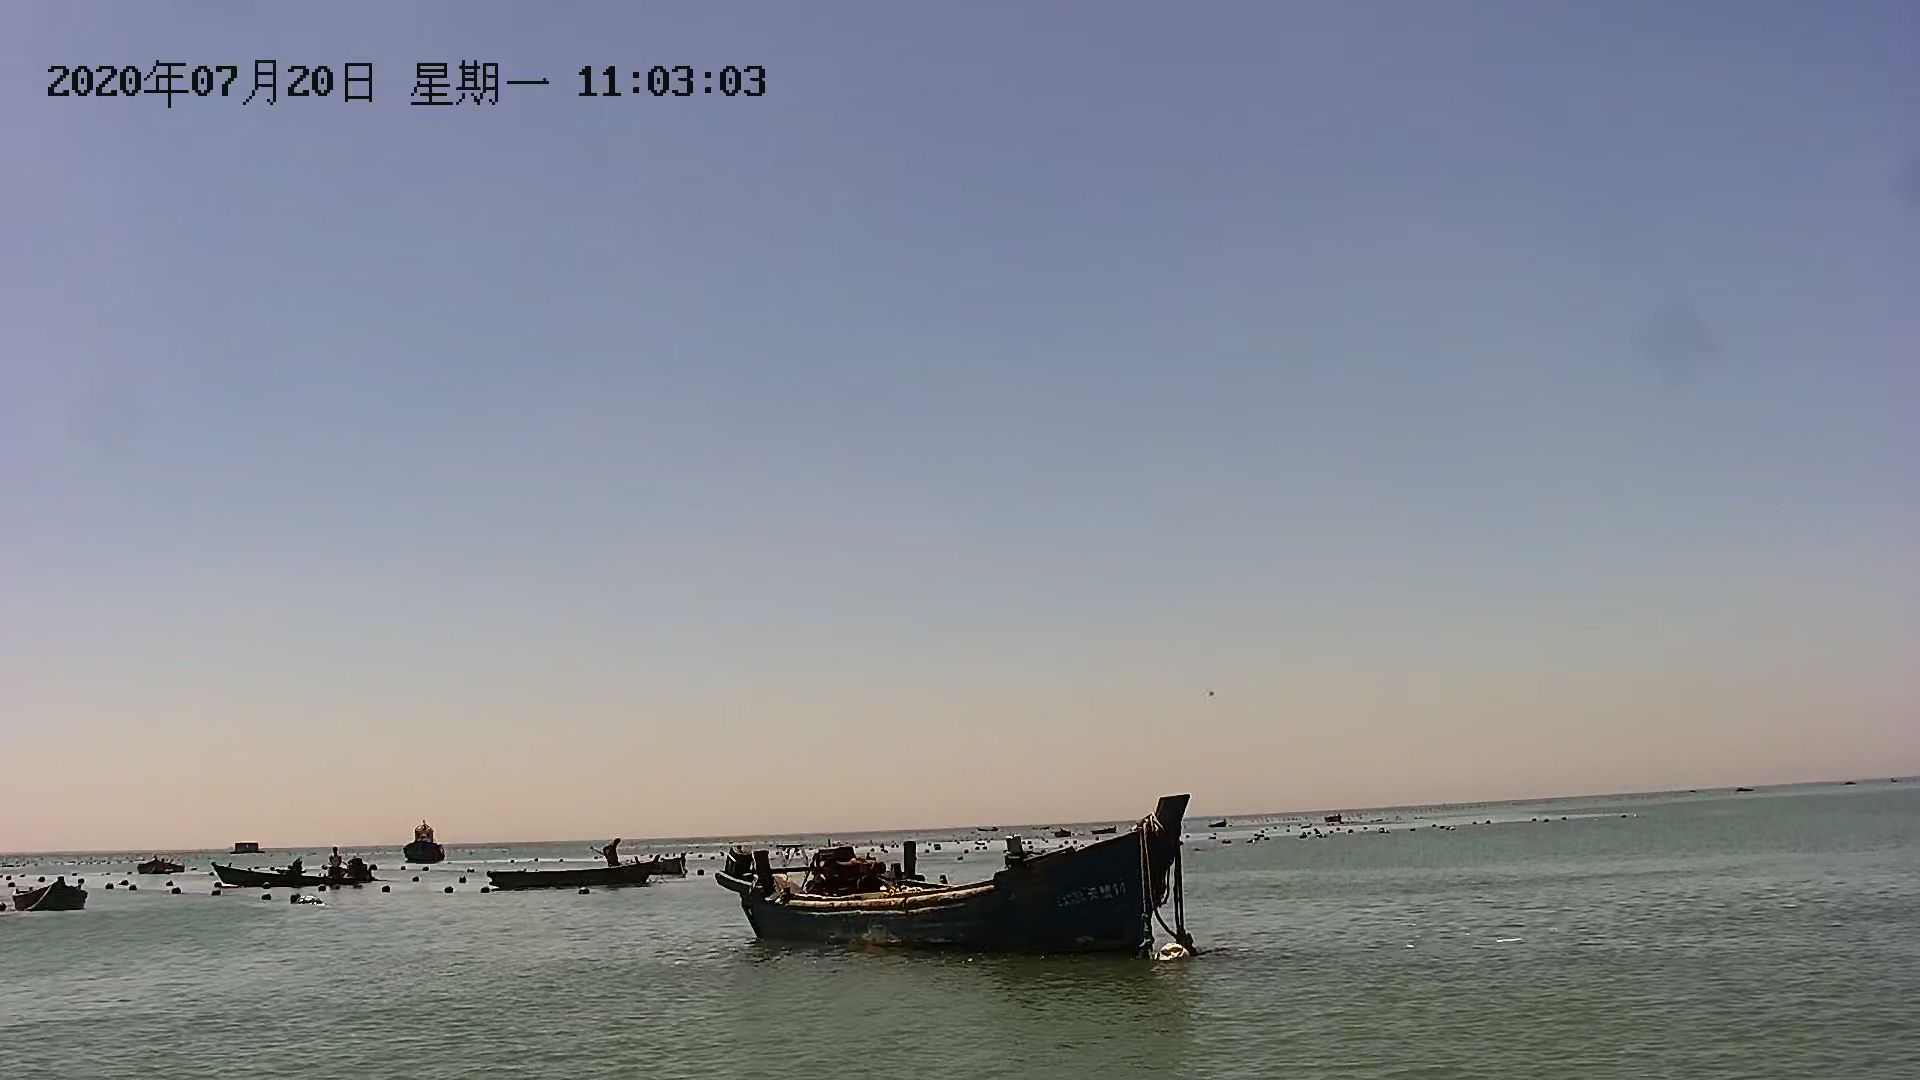boat: (713, 811, 1201, 950), (476, 850, 650, 896), (200, 856, 361, 894), (9, 873, 93, 913)
person: (321, 837, 349, 896)
platform: (224, 840, 267, 858)
ship: (393, 817, 453, 867)
